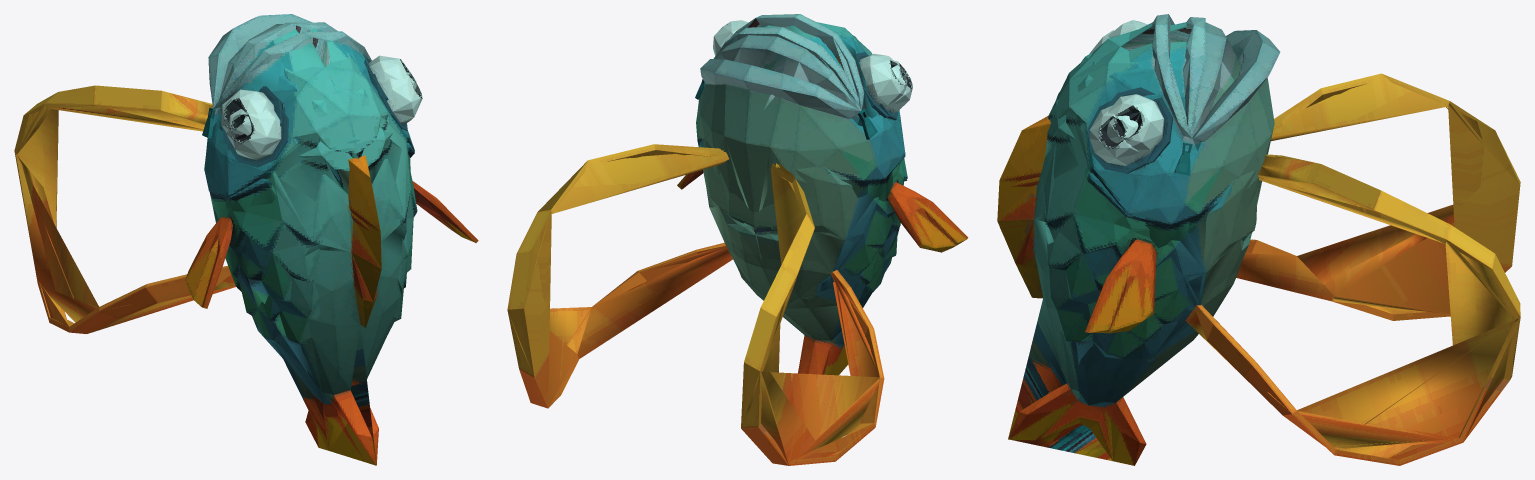
File: item_backpack_fish.glb
3 views of the same model, side by side, from view 1: azimuth 30°, elevation 25°; view 2: azimuth 150°, elevation 25°; view 3: azimuth 270°, elevation 25° (orthographic). The views are drawn at different scales.
Visible parts, largest first — view 1: prpFishBackpack_closed, prpFishBackpack_open; view 2: prpFishBackpack_open, prpFishBackpack_closed; view 3: prpFishBackpack_closed, prpFishBackpack_open.
Boxes of the visible parts, x1,y1,x2,y2 form: prpFishBackpack_closed: [17, 22, 478, 465]; prpFishBackpack_open: [14, 14, 477, 465]; prpFishBackpack_open: [516, 14, 967, 465]; prpFishBackpack_closed: [507, 20, 968, 464]; prpFishBackpack_closed: [997, 17, 1520, 465]; prpFishBackpack_open: [1000, 14, 1520, 465].
Bounding box in the file's own units: 0.3975 × 0.4873 × 0.5235.
1 material, 1 textured.
